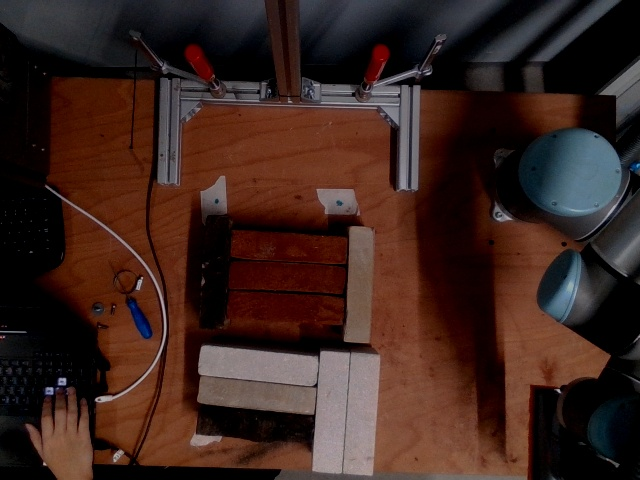brick-side: (198, 344, 318, 387), (198, 375, 318, 415), (195, 404, 315, 444), (343, 354, 383, 473), (311, 352, 350, 471), (231, 232, 346, 263), (226, 293, 341, 324), (229, 261, 342, 292), (200, 218, 231, 329), (345, 229, 374, 341)
